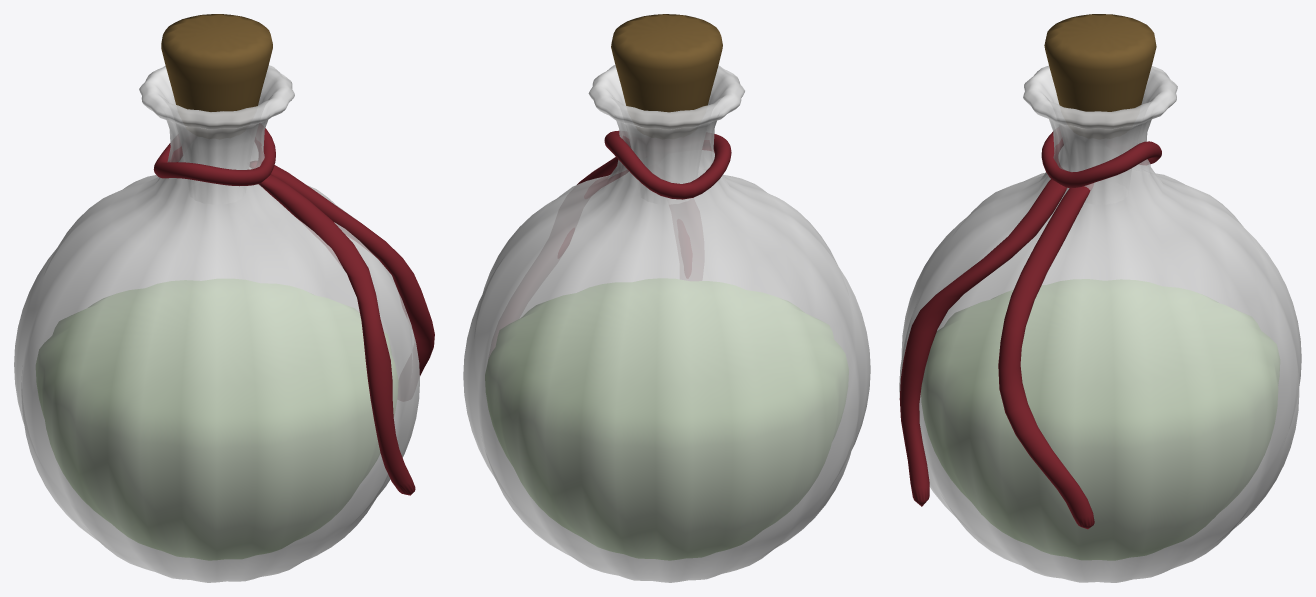
The model's file is sise-yesil.fbx.
The picture shows the model from 3 angles, left to right: view 1: azimuth 30°, elevation 25°; view 2: azimuth 150°, elevation 25°; view 3: azimuth 270°, elevation 25°; orthographic projection.
Visible parts, largest first — view 1: Cylinder.070; view 2: Cylinder.070; view 3: Cylinder.070.
Part boxes in pixels (<box>): Cylinder.070: <box>14,14,434,582</box>; Cylinder.070: <box>463,14,870,582</box>; Cylinder.070: <box>899,14,1301,582</box>.
Bounding box in the file's own units: 17.82 × 24.38 × 17.07.
